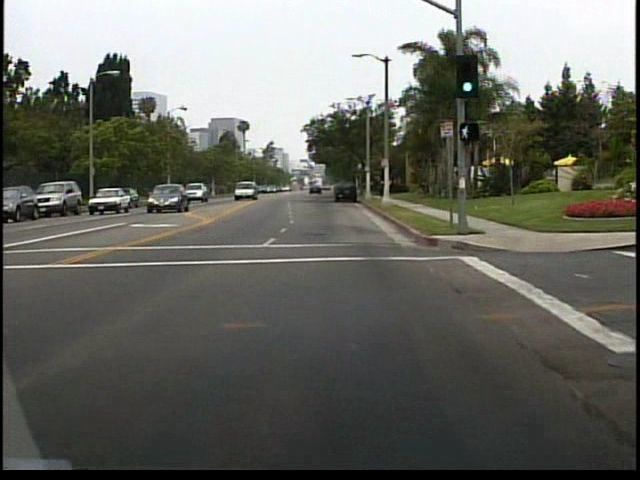person: (382, 173, 394, 200), (378, 177, 387, 200)
